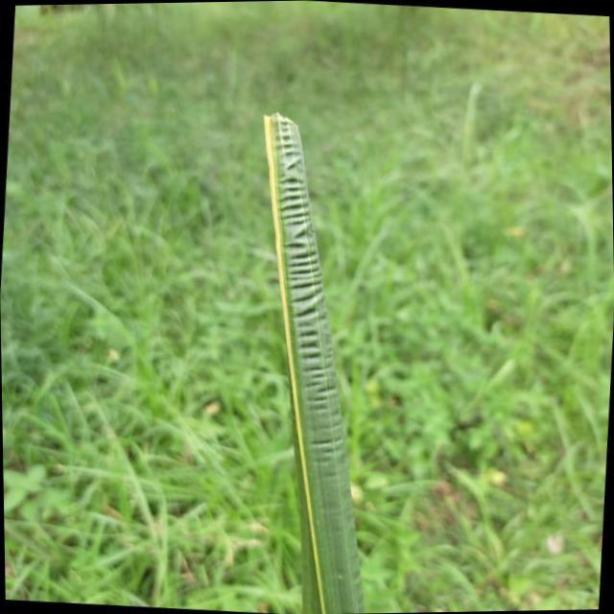Boron: (249, 107, 360, 614)
